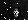person: (14, 8, 21, 19)
